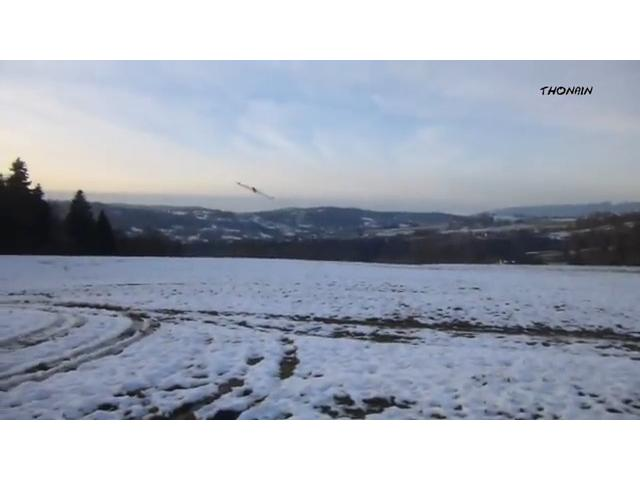Anti-Drone: (238, 183, 274, 199)
